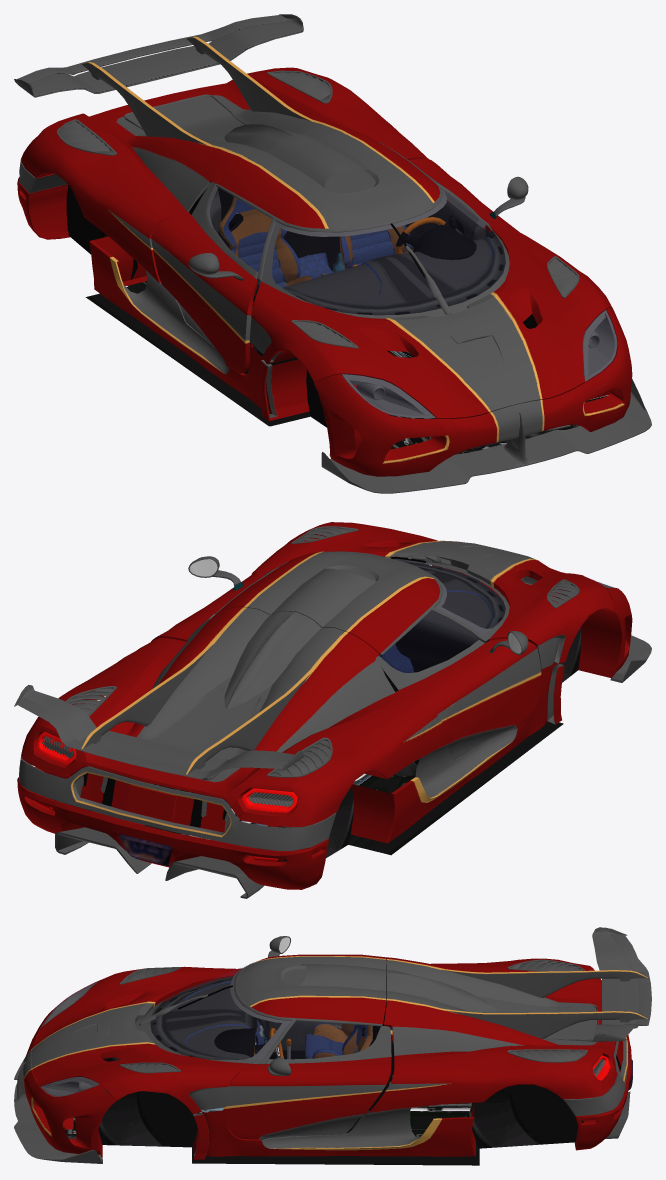
The model's file is Koenigs.obj.
The picture shows the model from 3 angles, top to bottom: view 1: azimuth 30°, elevation 25°; view 2: azimuth 150°, elevation 25°; view 3: azimuth 270°, elevation 25°; orthographic projection. The views are drawn at different scales.
Parts seen in each view (by area): view 1: koenisegg_final_car_body_lateral_back; view 2: koenisegg_final_car_body_lateral_back; view 3: koenisegg_final_car_body_lateral_back.
Boxes of the visible parts, x1,y1,x2,y2 form: koenisegg_final_car_body_lateral_back: [14, 14, 651, 493]; koenisegg_final_car_body_lateral_back: [14, 522, 651, 898]; koenisegg_final_car_body_lateral_back: [14, 927, 651, 1165].
Bounding box in the file's own units: 18.7 × 9.08 × 38.19.
Materials: 4 (4 with a texture image).
